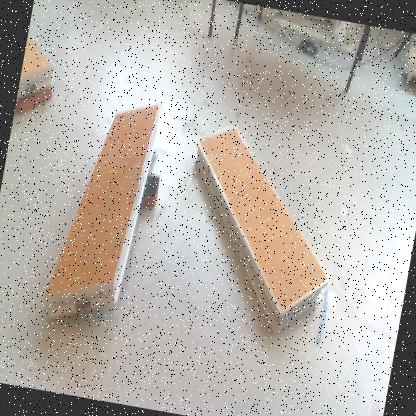Stairs: (194, 128, 329, 334), (43, 104, 162, 319), (17, 34, 54, 102)
